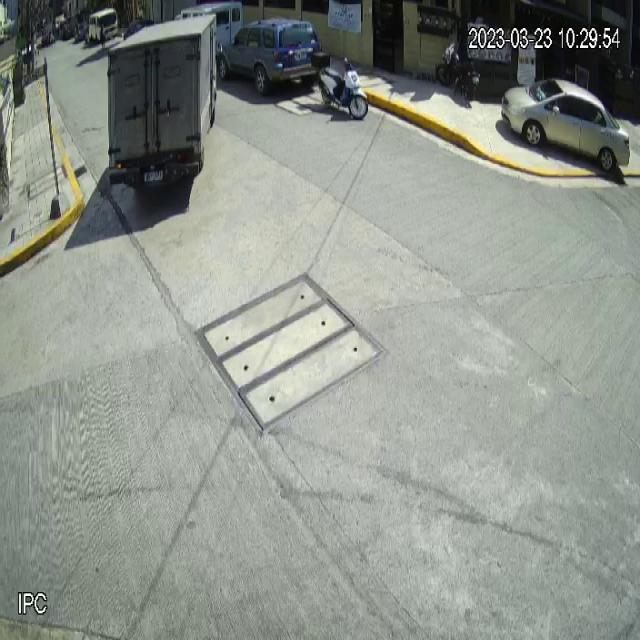Car: (502, 76, 630, 175), (218, 16, 323, 95)
Motorcycle: (312, 52, 369, 120)
Truck: (107, 14, 222, 192)
